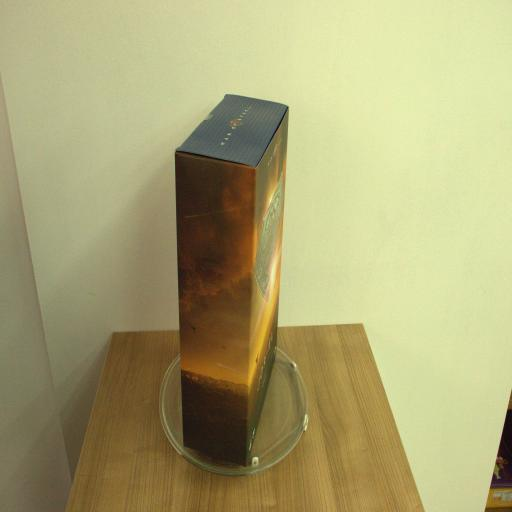superman: (176, 94, 282, 466)
